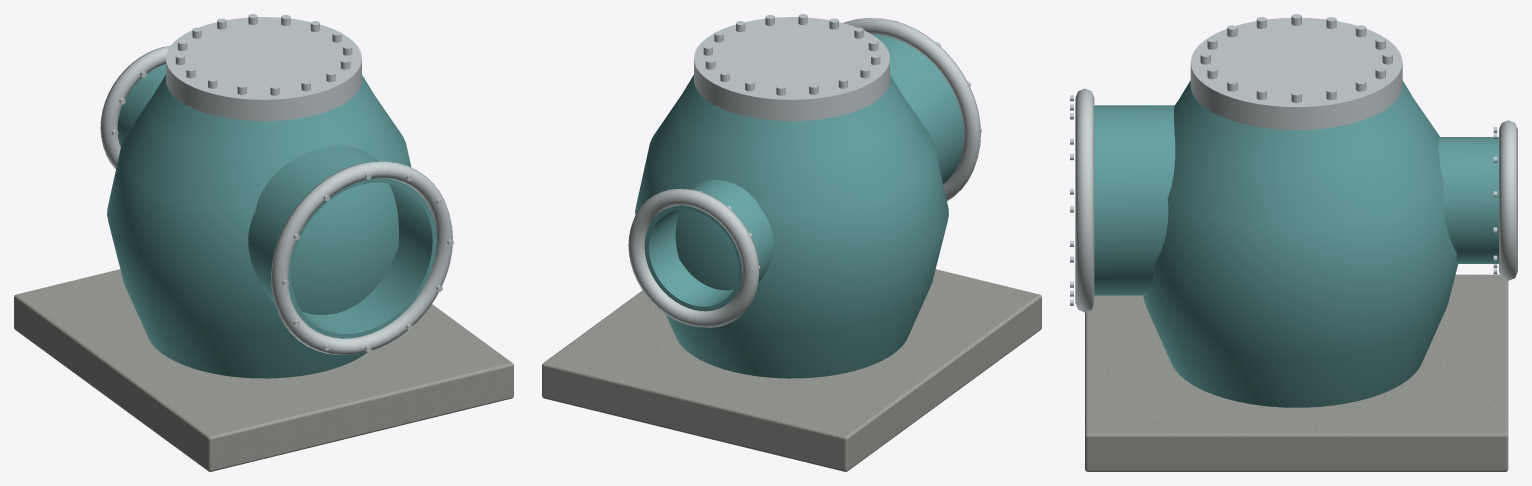
Rendered from hydroelectric-dam-infiltration-turbine-casing-7e7eea86__29345.glb.
3 renders of one model, left to right at view 1: azimuth 30°, elevation 25°; view 2: azimuth 150°, elevation 25°; view 3: azimuth 270°, elevation 25°, orthographic. The views are drawn at different scales.
Parts seen in each view (by area): view 1: turbine-casing; view 2: turbine-casing; view 3: turbine-casing.
Boxes of the visible parts, <box> form: turbine-casing: <box>14,14,513,471</box>; turbine-casing: <box>542,14,1041,471</box>; turbine-casing: <box>1070,14,1517,471</box>.
Size of the model in its own units: 1.8 by 1.76 by 2.12.
Materials: 3 (1 with a texture image).
